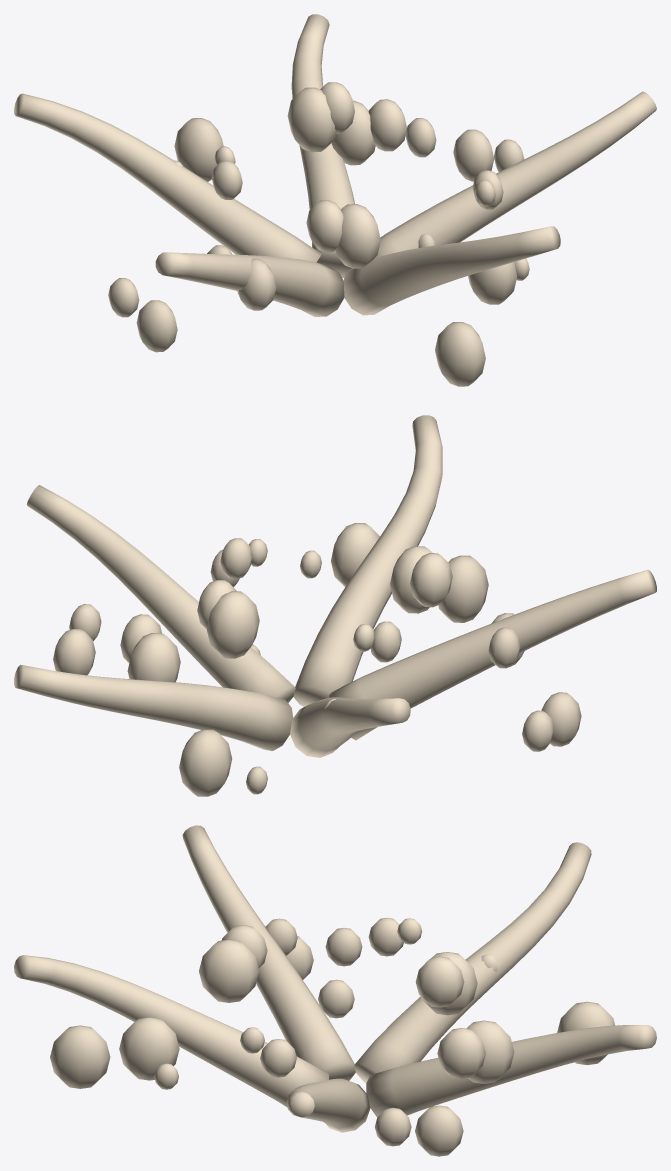
Rendered from candy-impact.glb.
3 renders of one model, top to bottom at view 1: azimuth 30°, elevation 25°; view 2: azimuth 150°, elevation 25°; view 3: azimuth 270°, elevation 25°, orthographic. The views are drawn at different scales.
Parts seen in each view (by area): view 1: Five-jet impact crown and 24 closed drops; view 2: Five-jet impact crown and 24 closed drops; view 3: Five-jet impact crown and 24 closed drops.
Boxes of the visible parts, x1,y1,x2,y2 form: Five-jet impact crown and 24 closed drops: [14, 14, 656, 386]; Five-jet impact crown and 24 closed drops: [14, 415, 656, 796]; Five-jet impact crown and 24 closed drops: [14, 825, 656, 1156].
Size of the model in its own units: 0.9621 by 0.3011 by 0.977.
